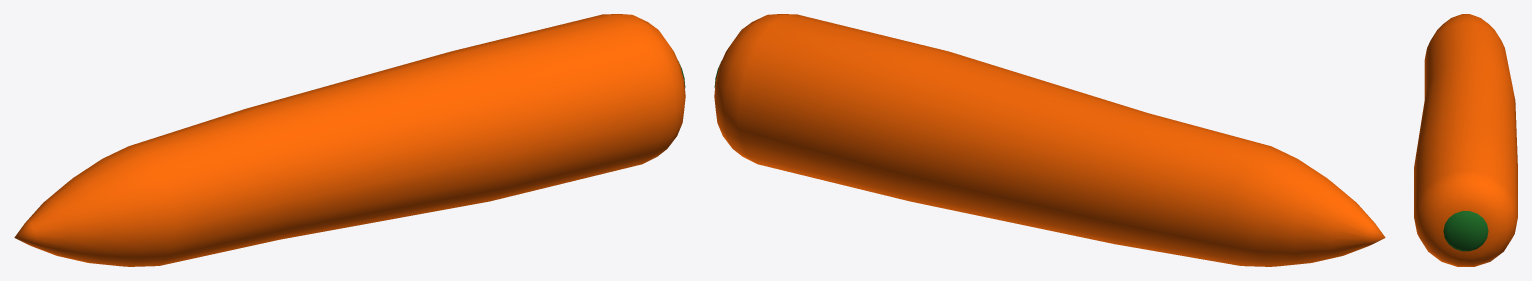
File: Zanahoria.fbx
3 views of the same model, side by side, from view 1: azimuth 30°, elevation 25°; view 2: azimuth 150°, elevation 25°; view 3: azimuth 270°, elevation 25° (orthographic). The views are drawn at different scales.
Visible parts, largest first — view 1: Cylinder.003; view 2: Cylinder.003; view 3: Cylinder.003.
Boxes of the visible parts, x1,y1,x2,y2 form: Cylinder.003: (14,14,685,266); Cylinder.003: (714,14,1385,266); Cylinder.003: (1414,14,1517,266).
Bounding box in the file's own units: 43.33 × 8.71 × 8.85.
